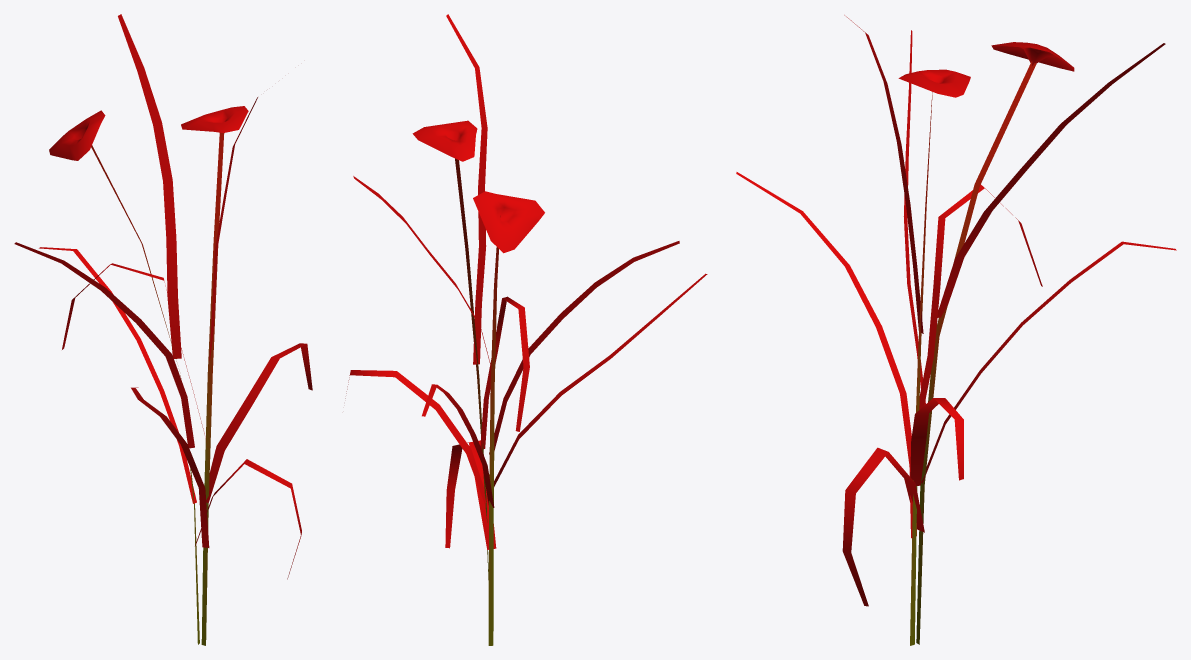
Rendered from Var15_LOD1.fbx.
3 renders of one model, left to right at view 1: azimuth 30°, elevation 25°; view 2: azimuth 150°, elevation 25°; view 3: azimuth 270°, elevation 25°, orthographic. The views are drawn at different scales.
Visible parts, largest first — view 1: _0nyt_Var15_LOD1; view 2: _0nyt_Var15_LOD1; view 3: _0nyt_Var15_LOD1.
Part boxes in pixels (x1,y1,x2,y2): _0nyt_Var15_LOD1: [14, 14, 312, 645]; _0nyt_Var15_LOD1: [345, 14, 707, 645]; _0nyt_Var15_LOD1: [736, 15, 1176, 645].
Bounding box in the file's own units: 9.65 × 17.09 × 10.16.
